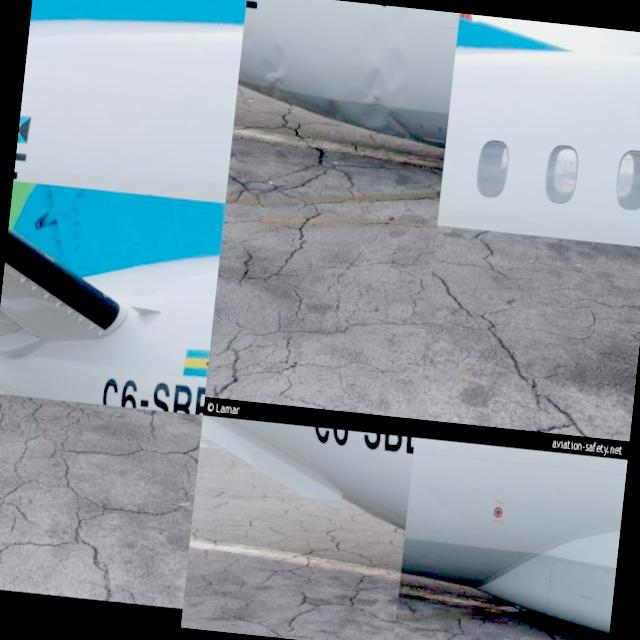dent: (253, 10, 422, 144)
